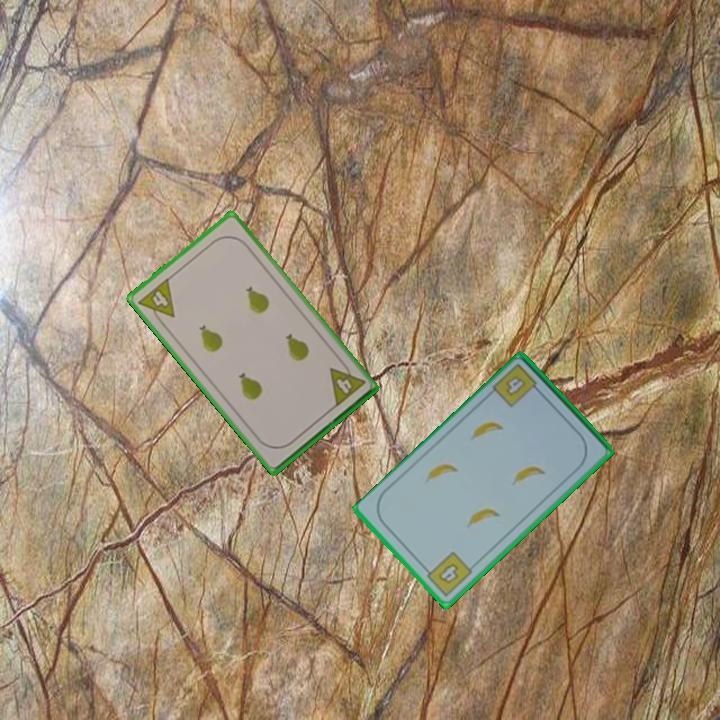4b: (420, 548, 476, 600), (489, 360, 545, 411)
4p: (135, 274, 178, 329), (325, 357, 368, 410)
